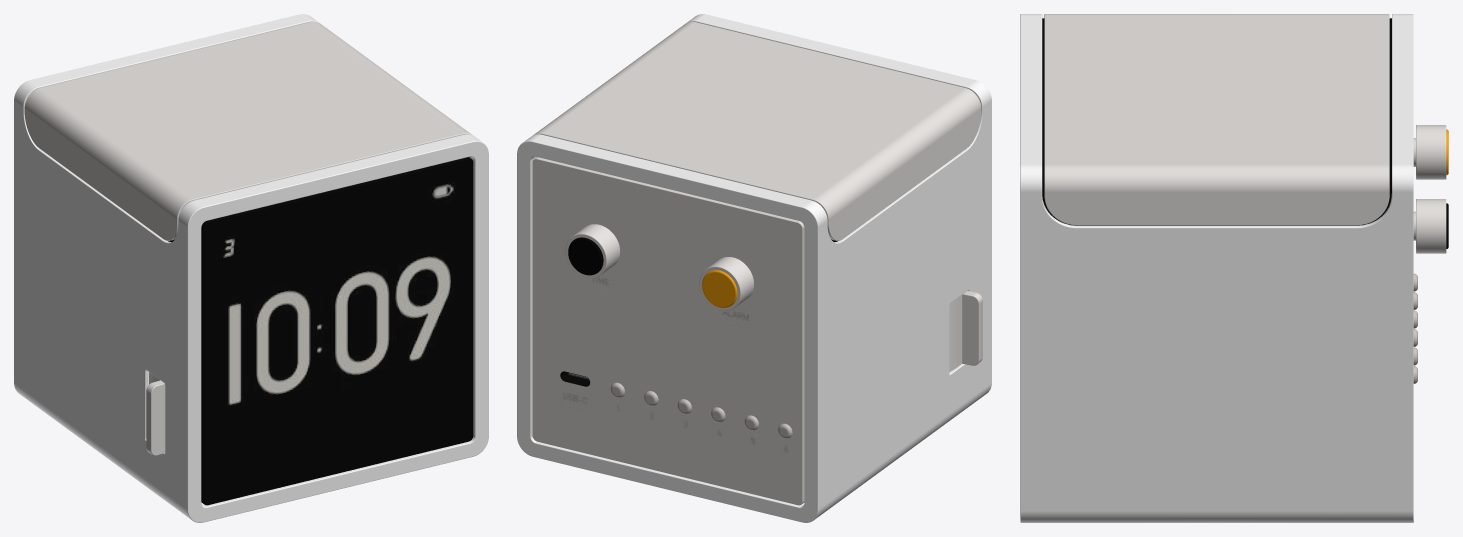
Rendered from alarm-clockv2.glb.
The picture shows the model from 3 angles, left to right: view 1: azimuth 30°, elevation 25°; view 2: azimuth 150°, elevation 25°; view 3: azimuth 270°, elevation 25°; orthographic projection. The views are drawn at different scales.
Visible parts, largest first — view 1: Layer 03(C948D93F-69C6-4A42-94F8-3786C6D48140), Layer 02(C961A8D7-408F-4A25-B44A-92BB6B33DA33), Default(31965437-68AA-4C93-88CF-875E502F0BAB), Layer 02(165915A9-3761-4F79-ABFC-DD359AF65E96), Layer 06(4DABDBA6-98E7-4A64-90BA-F5F96F477B27); view 2: Layer 06(06F56AEF-0C6B-4C3A-8814-C3FBD1AA02F5), Layer 03(C948D93F-69C6-4A42-94F8-3786C6D48140), Default(31965437-68AA-4C93-88CF-875E502F0BAB), Layer 06(4DABDBA6-98E7-4A64-90BA-F5F96F477B27), Layer 03(32086D83-858C-4058-A832-D7EDF355D7CA), Layer 03(AAD57DC3-D64B-4DD3-9779-20151614554C); view 3: Layer 03(C948D93F-69C6-4A42-94F8-3786C6D48140), Default(31965437-68AA-4C93-88CF-875E502F0BAB), Layer 02(C28CFFE5-B3ED-4617-A63C-3DAAA361D801), Layer 03(23E4AAE2-8299-4198-9C41-3018FD4AD739), Layer 03(98426134-AAA7-4D7A-996D-7C493A11EBD0), Layer 03(DF903A84-BDC8-4F8B-87BE-075EC09D979A), Layer 03(23988652-4A02-4D71-9E4B-5BDAC70BDD3C).
Part boxes in pixels (x1=…): Layer 03(C948D93F-69C6-4A42-94F8-3786C6D48140): x1=14, y1=14, x2=488, y2=522; Layer 02(C961A8D7-408F-4A25-B44A-92BB6B33DA33): x1=213, y1=171, x2=463, y2=492; Default(31965437-68AA-4C93-88CF-875E502F0BAB): x1=24, y1=21, x2=472, y2=240; Layer 02(165915A9-3761-4F79-ABFC-DD359AF65E96): x1=201, y1=157, x2=473, y2=505; Layer 06(4DABDBA6-98E7-4A64-90BA-F5F96F477B27): x1=146, y1=372, x2=165, y2=455; Layer 06(06F56AEF-0C6B-4C3A-8814-C3FBD1AA02F5): x1=532, y1=157, x2=804, y2=505; Layer 03(C948D93F-69C6-4A42-94F8-3786C6D48140): x1=517, y1=14, x2=991, y2=522; Default(31965437-68AA-4C93-88CF-875E502F0BAB): x1=533, y1=21, x2=981, y2=240; Layer 06(4DABDBA6-98E7-4A64-90BA-F5F96F477B27): x1=949, y1=291, x2=982, y2=371; Layer 03(32086D83-858C-4058-A832-D7EDF355D7CA): x1=568, y1=237, x2=603, y2=275; Layer 03(AAD57DC3-D64B-4DD3-9779-20151614554C): x1=702, y1=270, x2=737, y2=307; Layer 03(C948D93F-69C6-4A42-94F8-3786C6D48140): x1=1020, y1=14, x2=1413, y2=522; Default(31965437-68AA-4C93-88CF-875E502F0BAB): x1=1044, y1=14, x2=1389, y2=225; Layer 02(C28CFFE5-B3ED-4617-A63C-3DAAA361D801): x1=1042, y1=18, x2=1391, y2=225; Layer 03(23E4AAE2-8299-4198-9C41-3018FD4AD739): x1=1416, y1=199, x2=1431, y2=253; Layer 03(98426134-AAA7-4D7A-996D-7C493A11EBD0): x1=1416, y1=125, x2=1431, y2=179; Layer 03(DF903A84-BDC8-4F8B-87BE-075EC09D979A): x1=1431, y1=199, x2=1445, y2=253; Layer 03(23988652-4A02-4D71-9E4B-5BDAC70BDD3C): x1=1431, y1=125, x2=1445, y2=179.
Size of the model in its own units: 0.0943 by 0.092 by 0.098.
29 materials, 5 textured.
